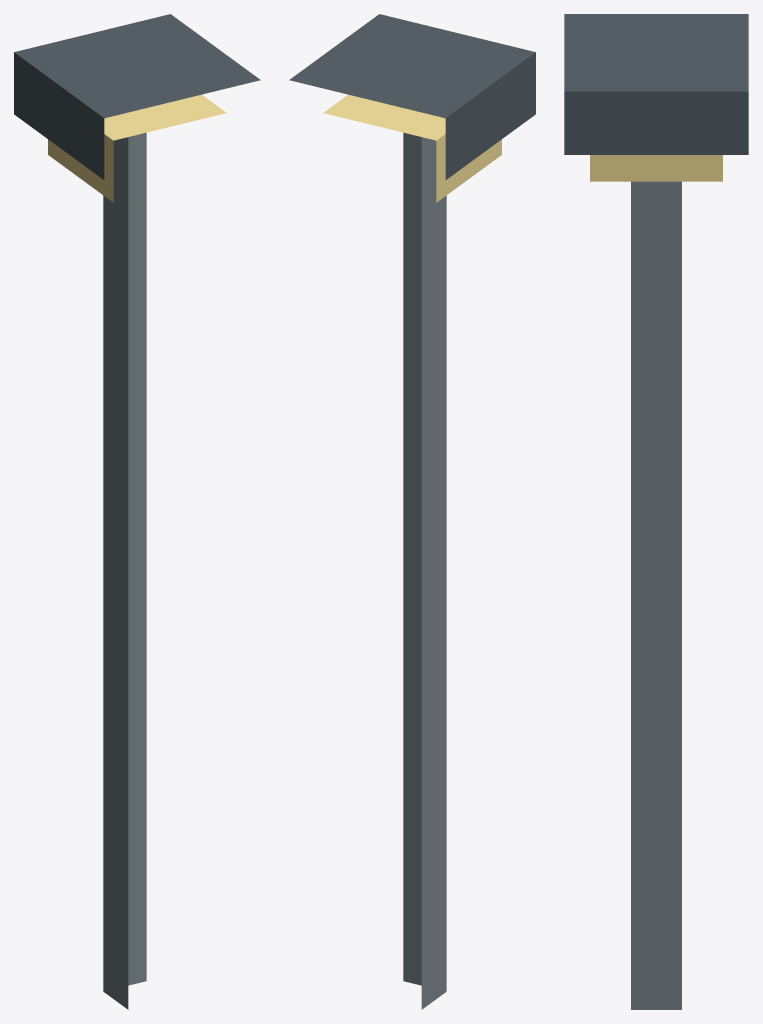
Rendered from lamp.glb.
3 views of the same model, side by side, from view 1: azimuth 30°, elevation 25°; view 2: azimuth 150°, elevation 25°; view 3: azimuth 270°, elevation 25° (orthographic).
Bounding box in the file's own units: 0.58 × 3.29 × 0.58.
